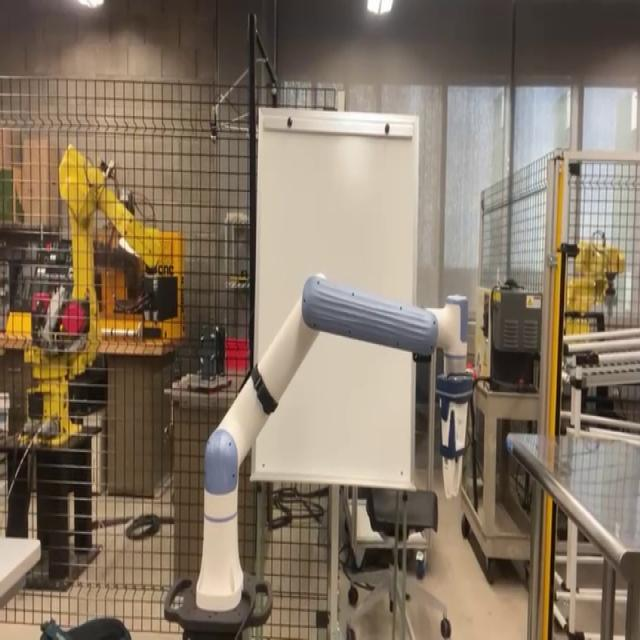robot: (163, 271, 470, 638)
